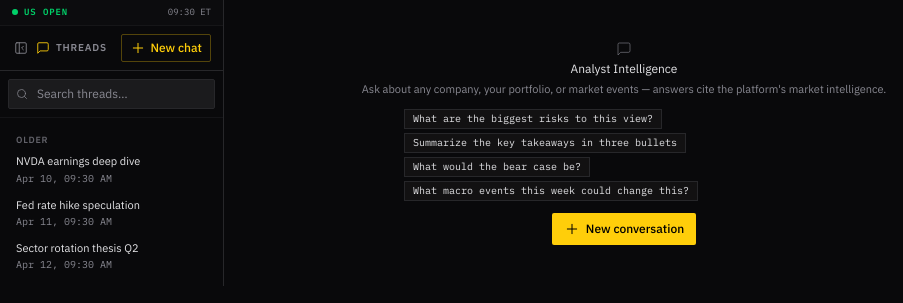
Test: Chat thread search › shows no-results message when nothing matches
Check: the text "NVDA earnings deep dive" is shown, box x1=16 y1=154 x2=140 y2=168
Type "absolutely-no-match" into the search field labelled "Search threads…".
click(112, 94); type("absolutely-no-match")  # box x1=8 y1=79 x2=215 y2=109
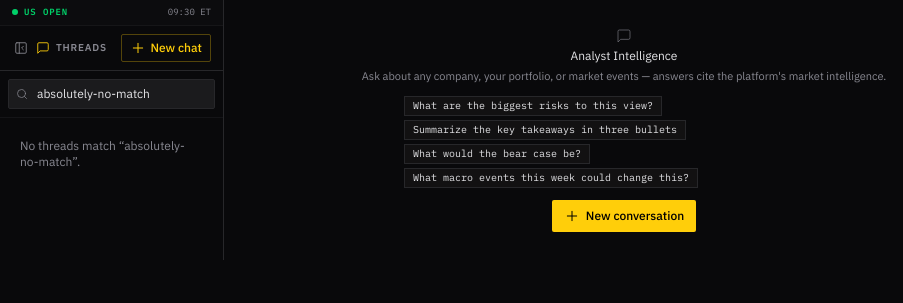
Check: the text "No threads match “absolutely-no-match”." is shown, box x1=20 y1=138 x2=185 y2=169
